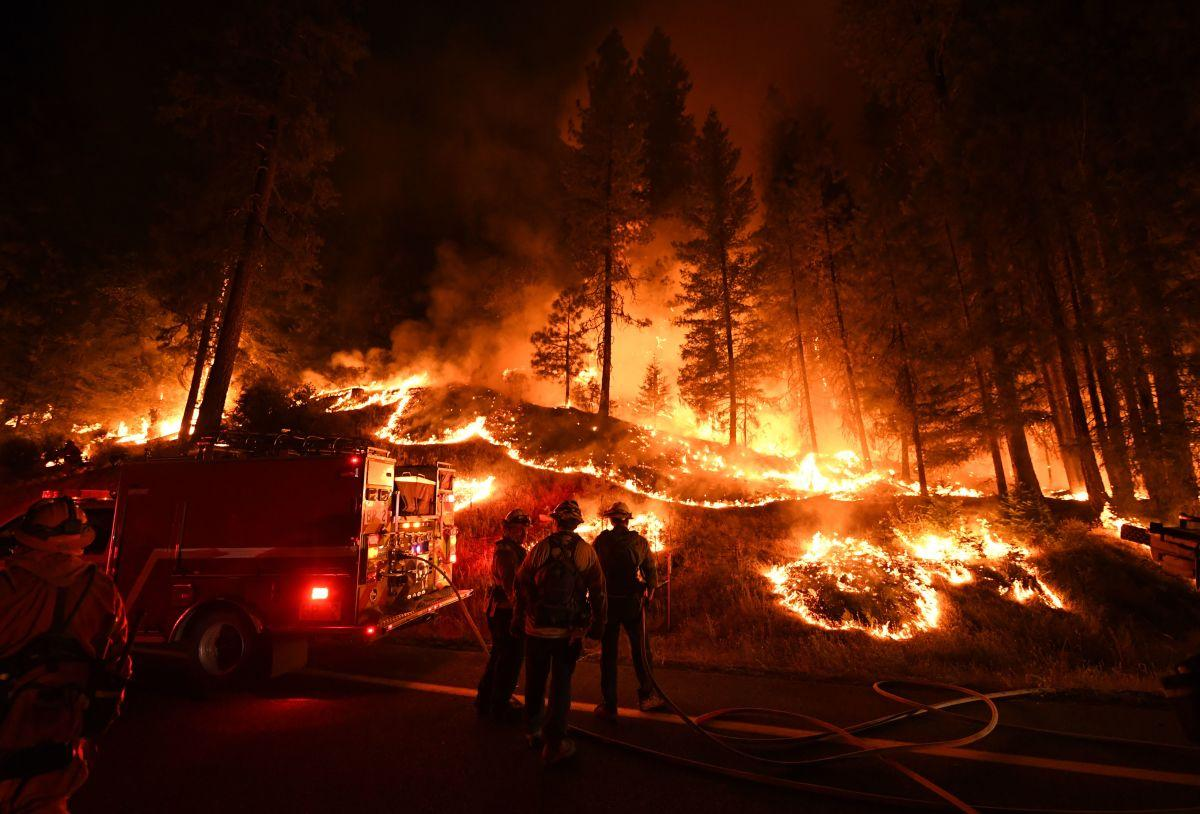Fire: (121, 295, 1163, 640)
